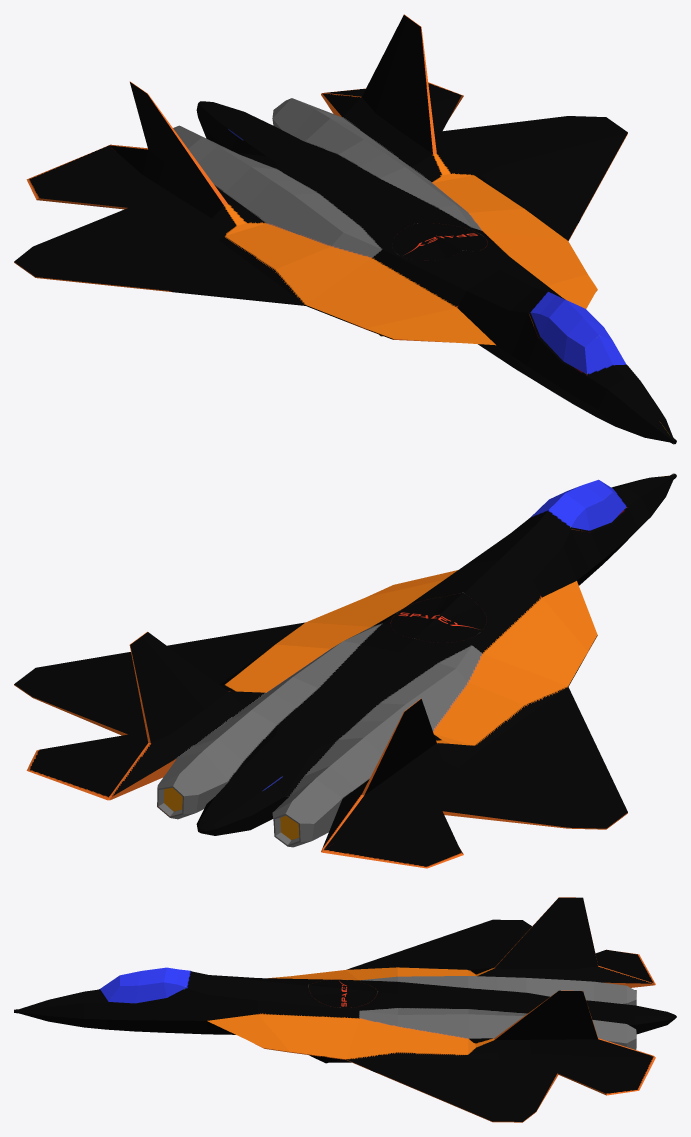
File: AirShipSpaceY.fbx
The picture shows the model from 3 angles, top to bottom: view 1: azimuth 30°, elevation 25°; view 2: azimuth 150°, elevation 25°; view 3: azimuth 270°, elevation 25°; orthographic projection. The views are drawn at different scales.
Visible parts, largest first — view 1: Low_poly_Ship, spacey; view 2: Low_poly_Ship, spacey; view 3: Low_poly_Ship, spacey.
Boxes of the visible parts, bbox=[...] form: Low_poly_Ship: bbox=[14, 14, 676, 444]; spacey: bbox=[392, 223, 487, 260]; Low_poly_Ship: bbox=[14, 473, 676, 868]; spacey: bbox=[390, 592, 486, 642]; Low_poly_Ship: bbox=[14, 897, 676, 1122]; spacey: bbox=[308, 979, 377, 1007].
Size of the model in its own units: 675 by 153 by 936.
